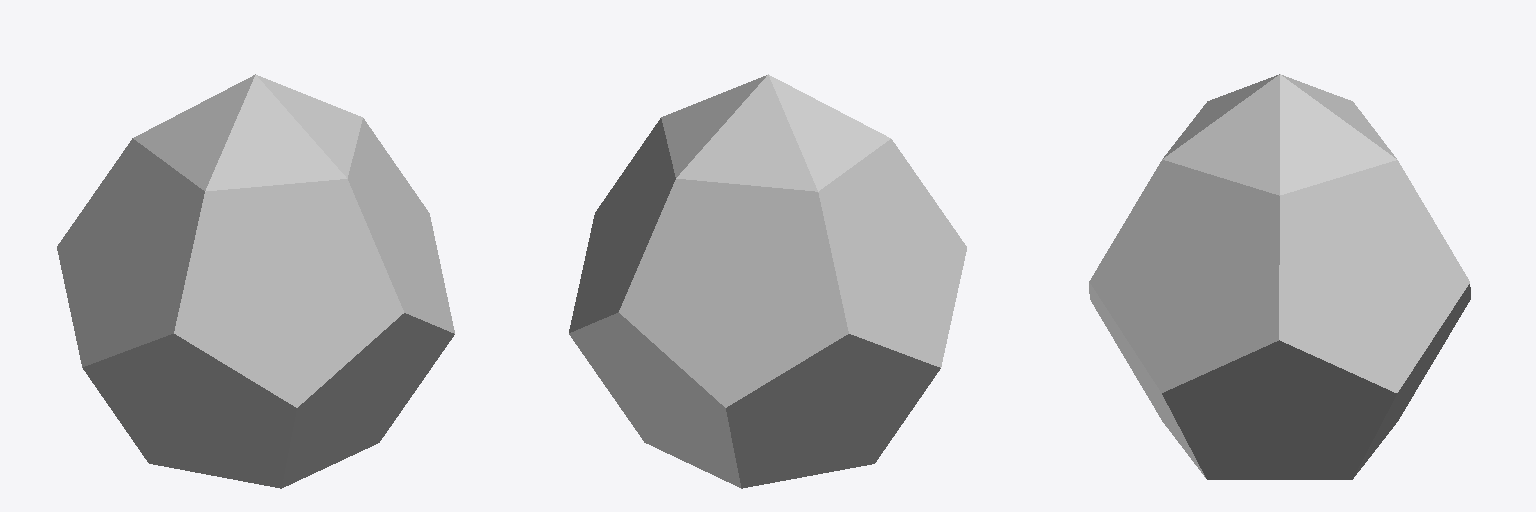
File: AugmentedDodecahedron.obj
The picture shows the model from 3 angles: view 1: azimuth 30°, elevation 25°; view 2: azimuth 150°, elevation 25°; view 3: azimuth 270°, elevation 25°; orthographic projection.
Parts seen in each view (by area): view 1: AugmentedDodecahedron; view 2: AugmentedDodecahedron; view 3: AugmentedDodecahedron.
Boxes of the visible parts, x1,y1,x2,y2 form: AugmentedDodecahedron: [57, 74, 454, 488]; AugmentedDodecahedron: [569, 74, 966, 488]; AugmentedDodecahedron: [1089, 74, 1470, 479].
Bounding box in the file's own units: 2.06 × 2.07 × 1.97.